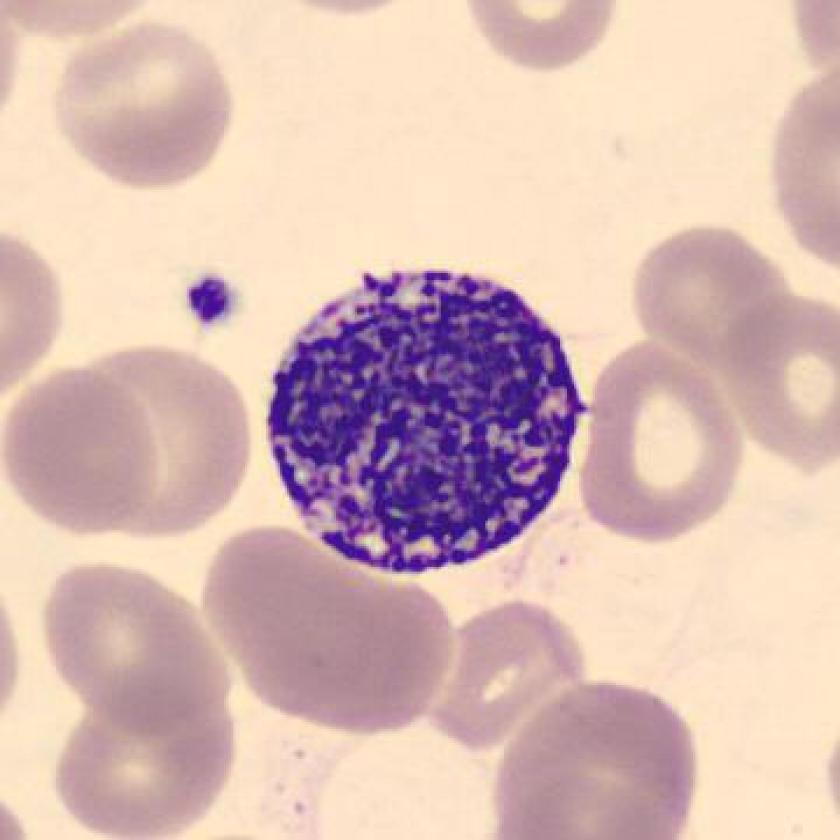basophil: (263, 263, 592, 584)
